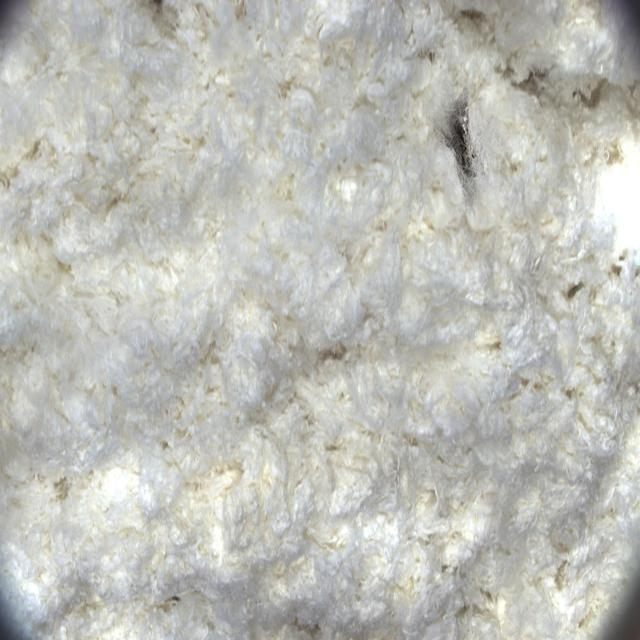dust: (400, 66, 520, 224)
